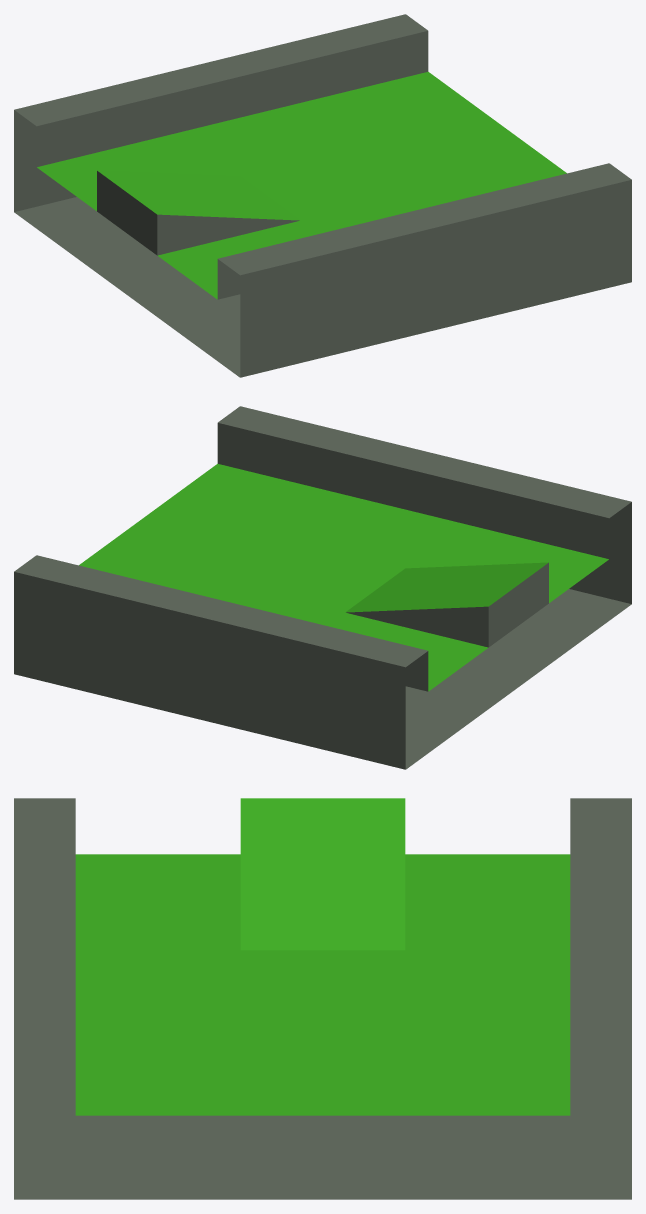
Rendered from StraightRamp.fbx.
The picture shows the model from 3 angles, top to bottom: view 1: azimuth 30°, elevation 25°; view 2: azimuth 150°, elevation 25°; view 3: azimuth 270°, elevation 25°; orthographic projection. The views are drawn at different scales.
Parts seen in each view (by area): view 1: StraightRamp; view 2: StraightRamp; view 3: StraightRamp.
Part boxes in pixels (x1,y1,x2,y2): StraightRamp: (14, 14, 631, 377); StraightRamp: (14, 406, 631, 769); StraightRamp: (14, 798, 631, 1199).
Size of the model in its own units: 200 by 50 by 200.
